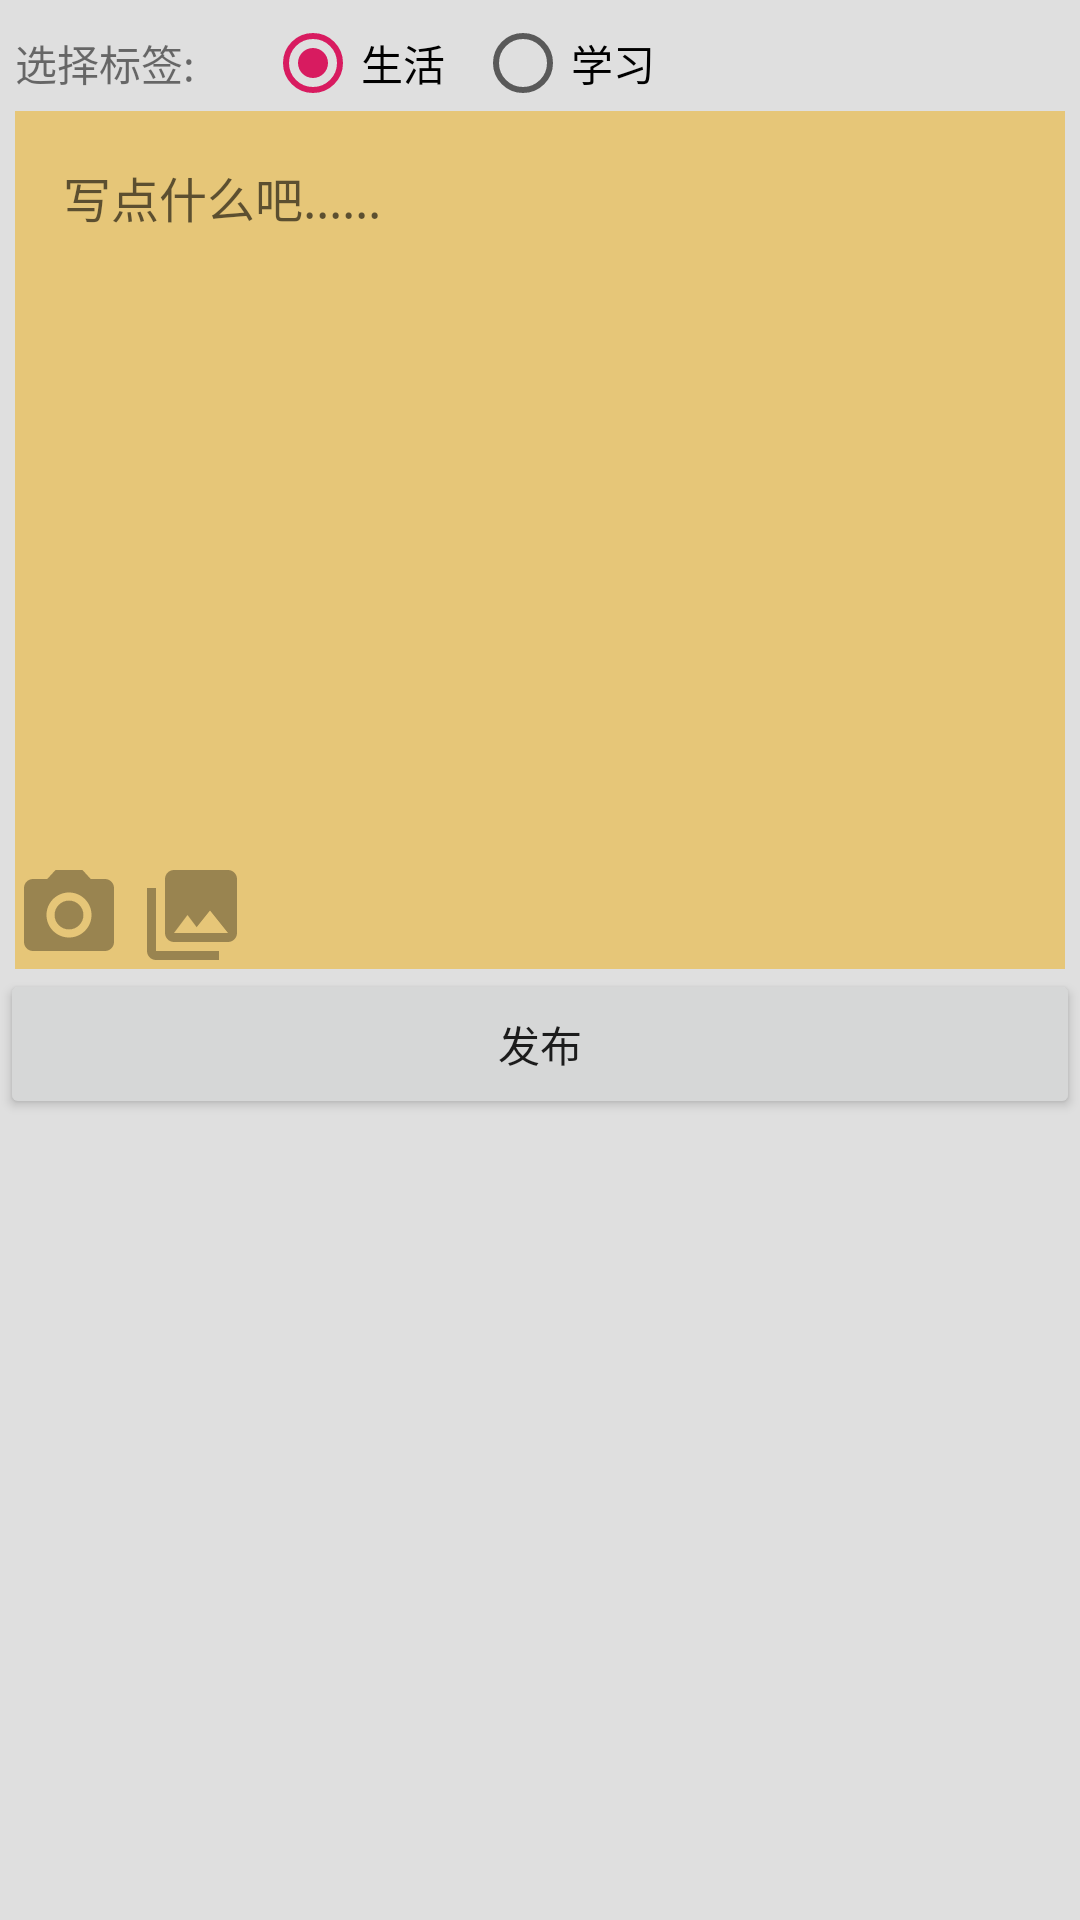

Named icons in this screenshot (1080w x 1920h) and their centers, point (x, y):
camera: point (69, 910)
gallery: point (192, 915)
